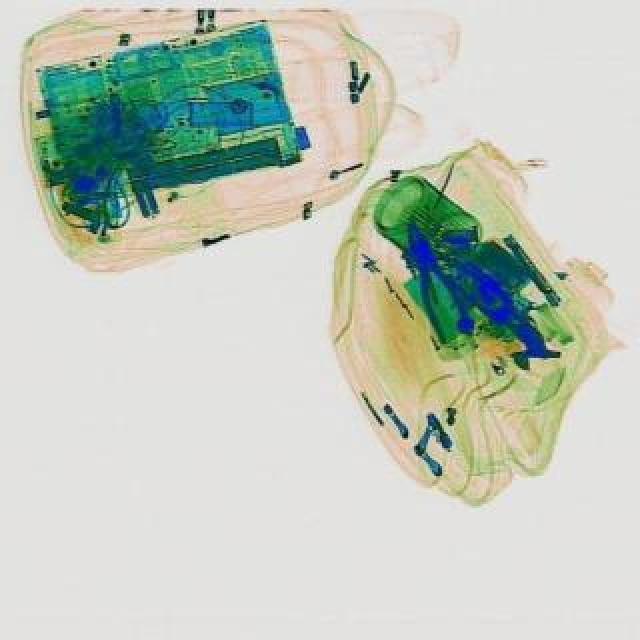wrench: (394, 216, 480, 348)
